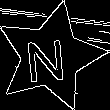N_N: (29, 29, 73, 84)
